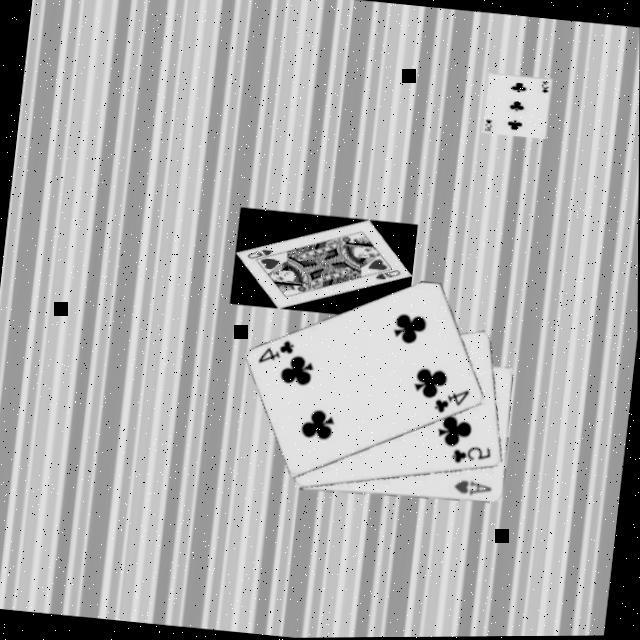4C: (432, 384, 476, 418), (257, 334, 300, 368)
5C: (450, 440, 498, 470)
AH: (452, 474, 497, 500)
